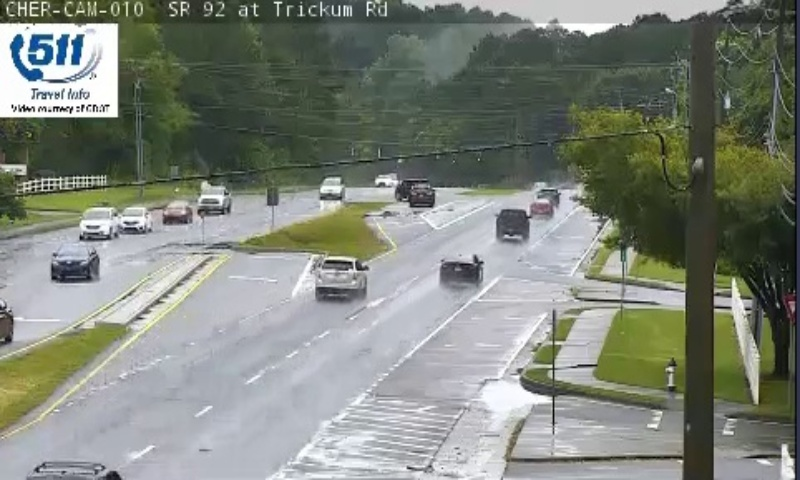car: (315, 256, 368, 294), (439, 250, 482, 281), (496, 209, 529, 238)
